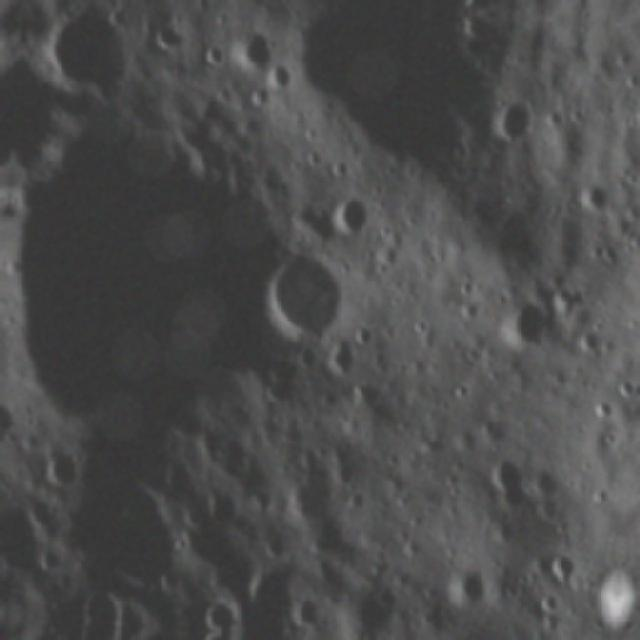crater: (244, 254, 354, 349), (34, 3, 148, 94), (12, 46, 59, 166), (488, 92, 548, 143), (496, 295, 549, 348), (439, 561, 493, 613), (587, 560, 621, 628), (328, 192, 370, 245), (225, 24, 273, 70), (204, 598, 241, 634), (79, 591, 116, 624), (288, 590, 323, 624), (237, 80, 274, 108), (268, 63, 304, 89), (151, 23, 177, 54), (581, 180, 604, 212), (350, 320, 376, 346), (452, 377, 478, 401), (193, 46, 221, 68), (594, 400, 623, 418), (617, 371, 637, 397), (409, 319, 428, 343), (540, 108, 565, 124), (454, 272, 471, 293), (626, 68, 640, 92), (540, 17, 568, 21)
